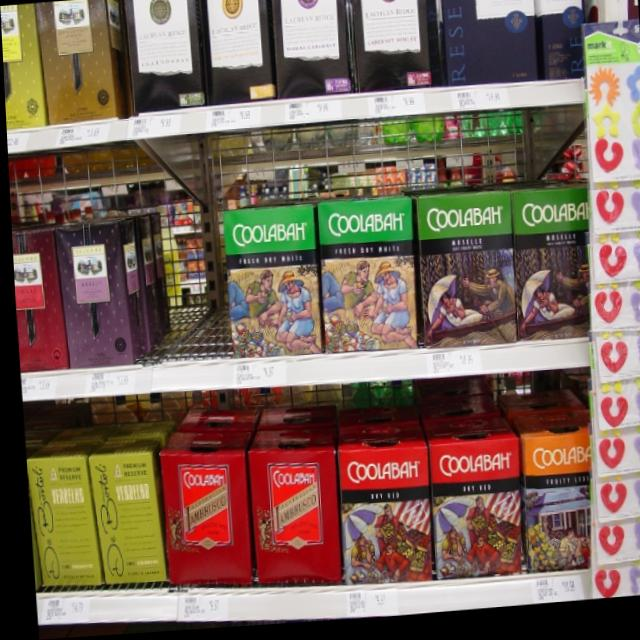q61: (423, 434, 523, 599), (333, 444, 431, 600)
